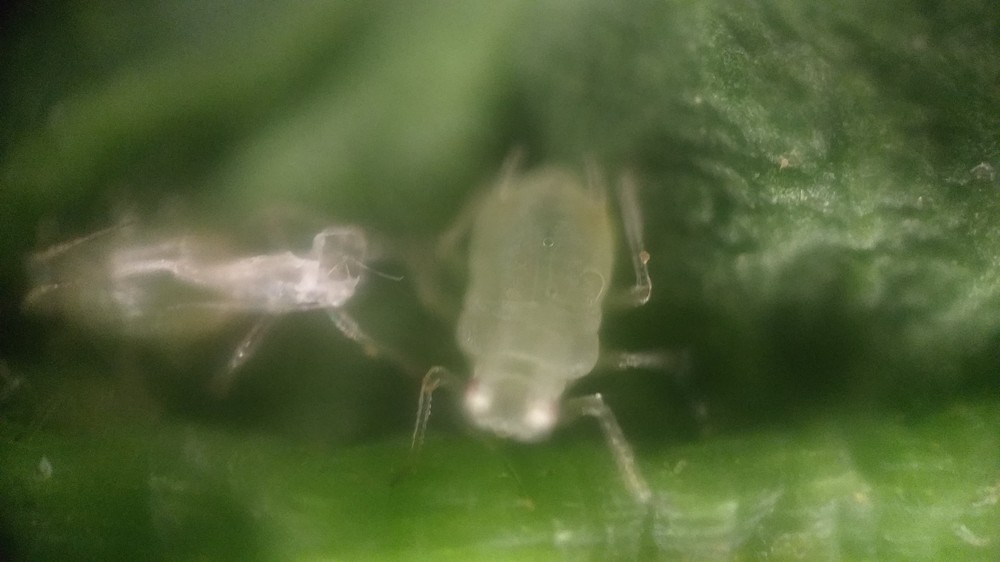Pulgon: (380, 135, 726, 513)
